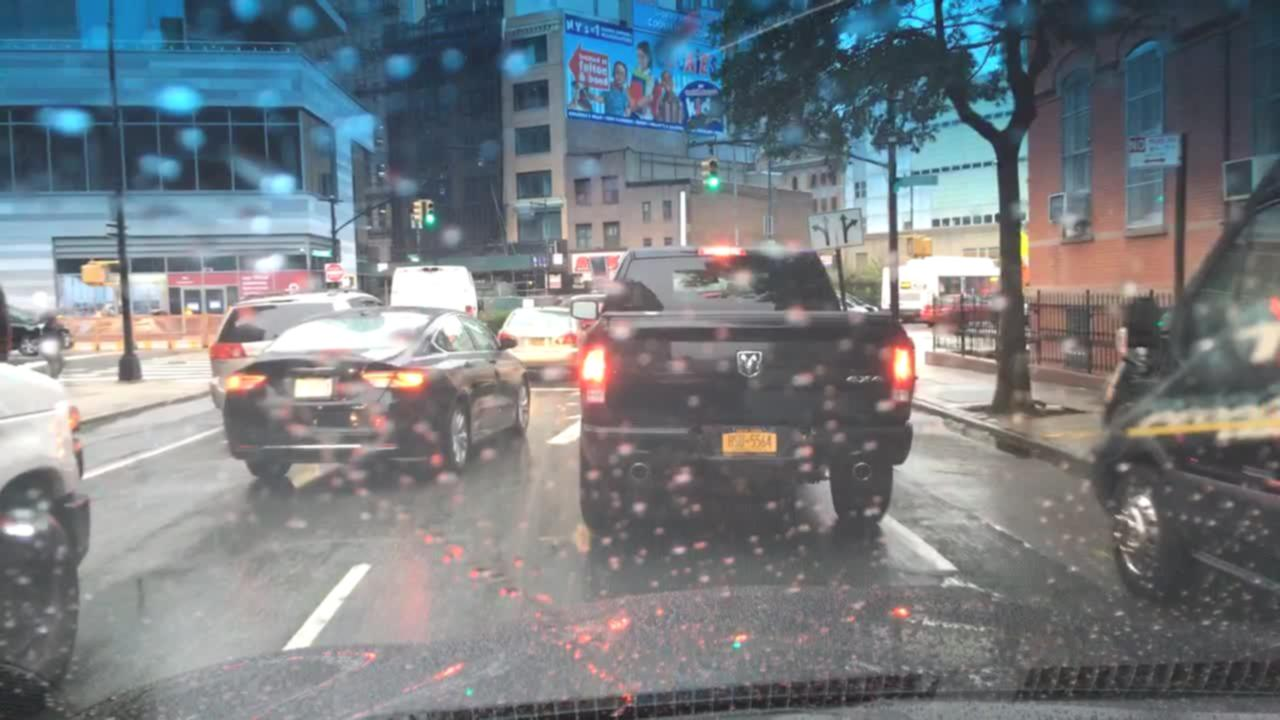ram: (730, 345, 768, 385)
